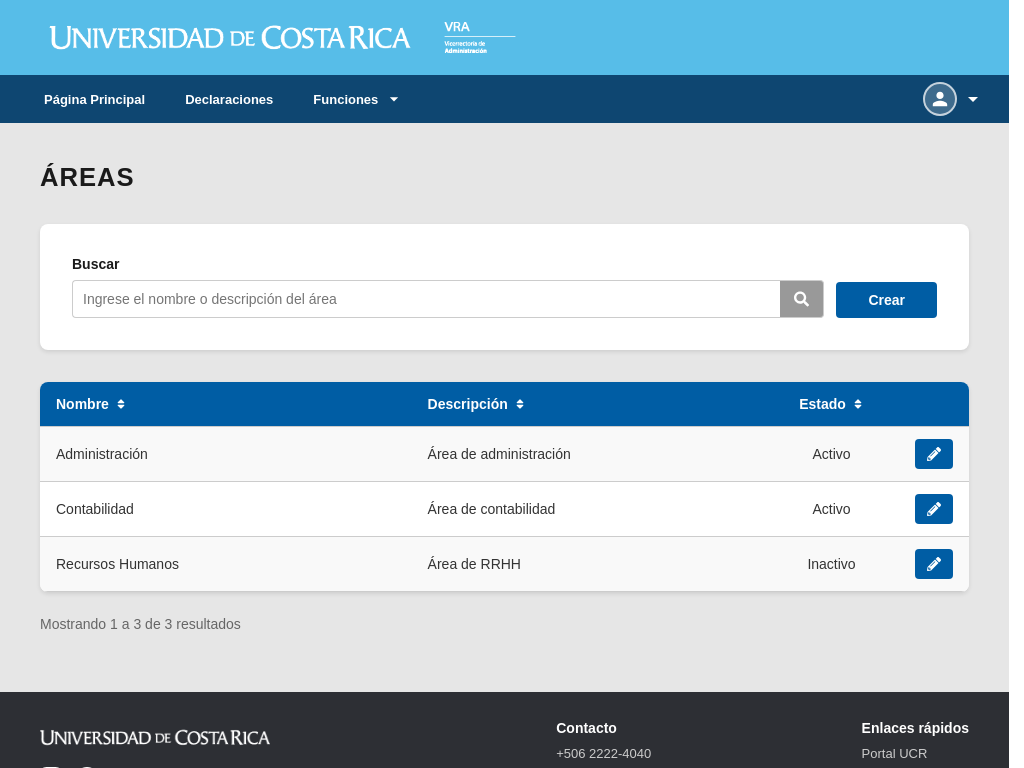
Test: QueryAreas Page › cierra modal de crear al hacer clic en cerrar
This screenshot has width=1024, height=768.
expect the text "Administración" is shown: met, box [40,426,412,482]
Click the button "Crear" at (887, 300), box [836,282,937,318]
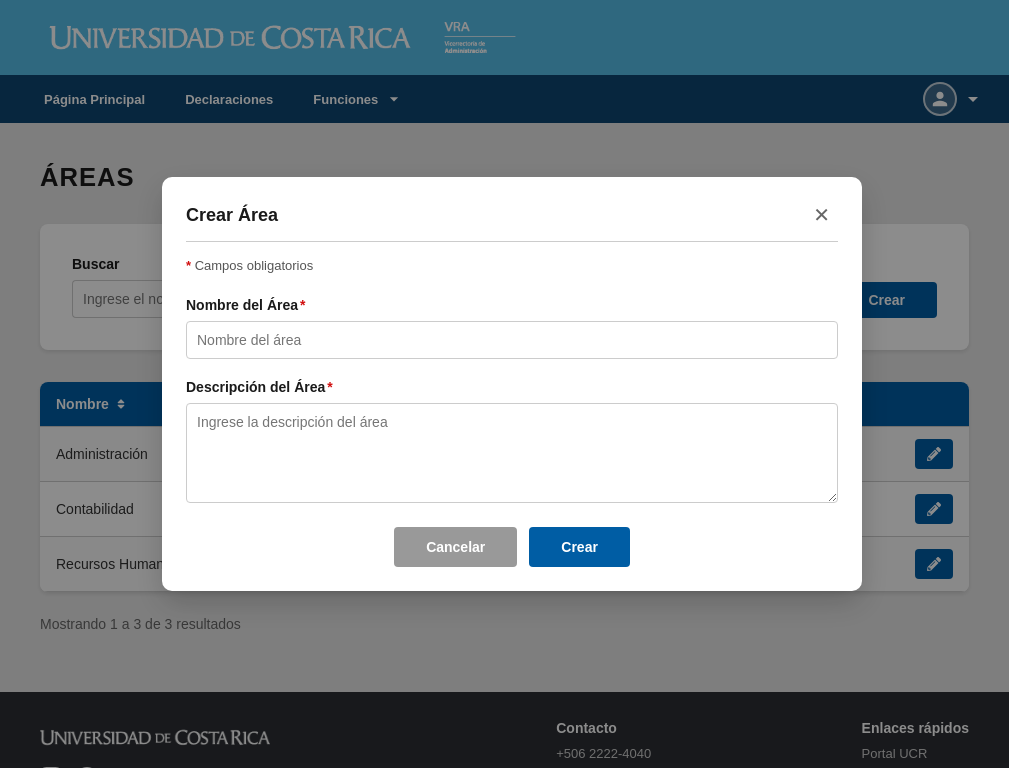
expect the dialog is shown: met
Click the button named "Cerrar modal" at (822, 215), box [805,201,838,229]
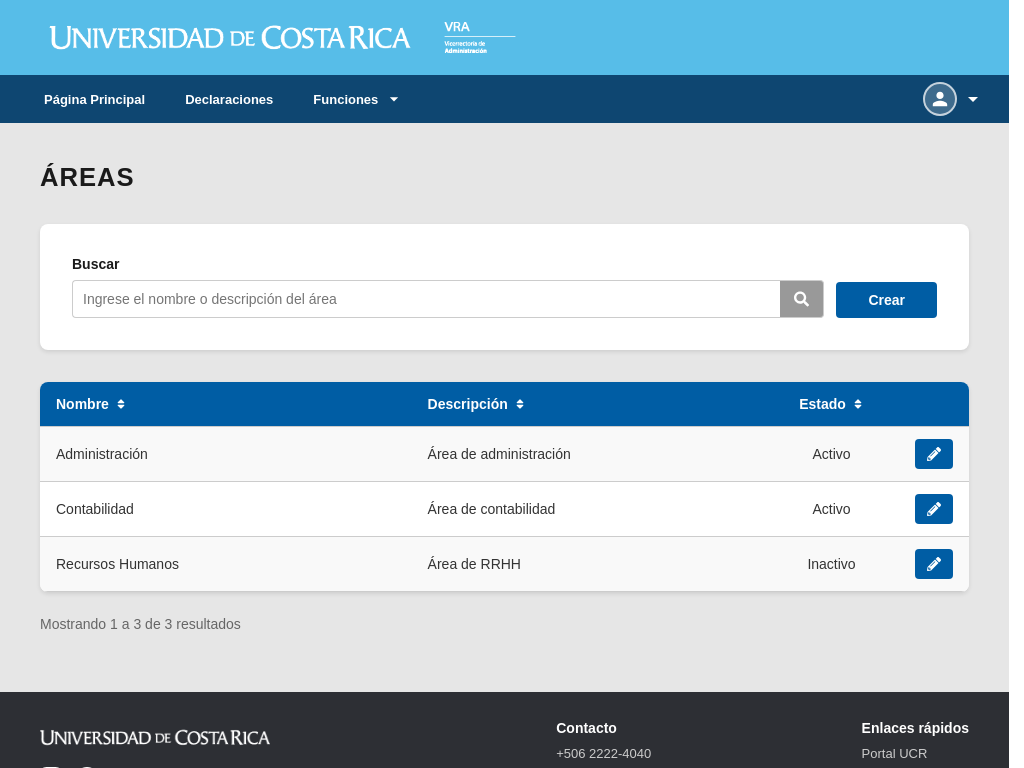
expect the dialog is gone: met
